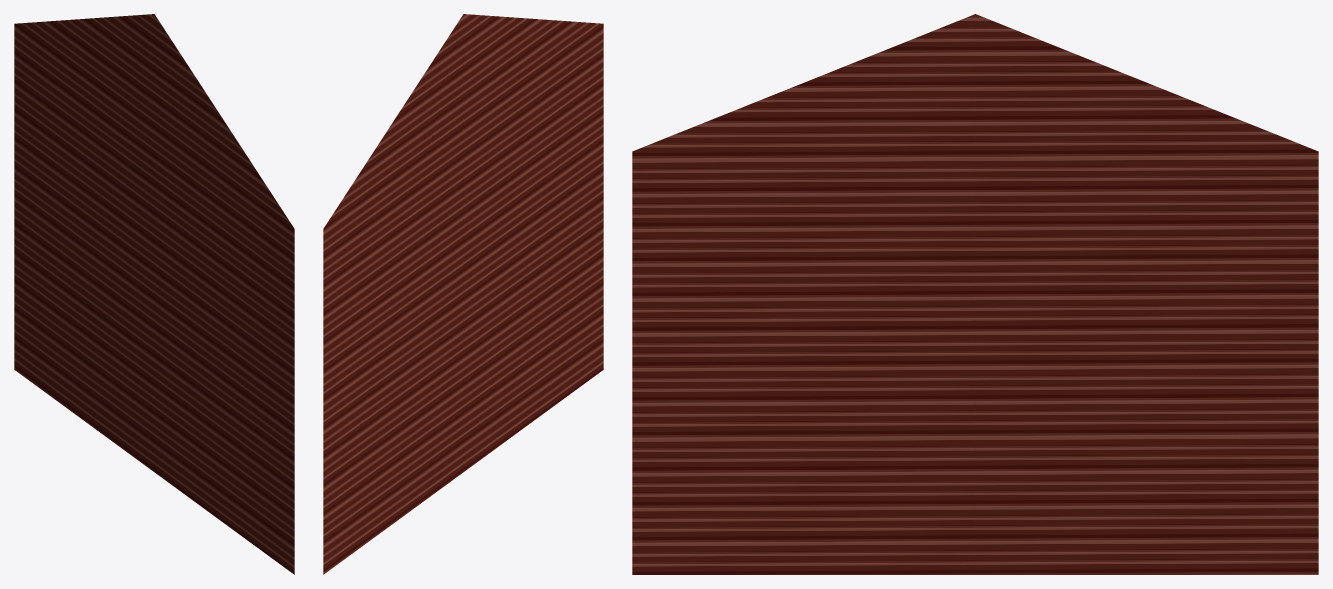
File: tranglewall1.gltf
3 views of the same model, side by side, from view 1: azimuth 30°, elevation 25°; view 2: azimuth 150°, elevation 25°; view 3: azimuth 270°, elevation 25° (orthographic). The views are drawn at different scales.
Parts seen in each view (by area): view 1: Plane; view 2: Plane; view 3: Plane.
Boxes of the visible parts, bbox=[...] form: Plane: bbox=[14, 14, 294, 574]; Plane: bbox=[323, 14, 603, 574]; Plane: bbox=[632, 14, 1318, 574].
Size of the model in its own units: 8.55e-08 by 6.49 by 7.2.
1 material, 1 textured.
